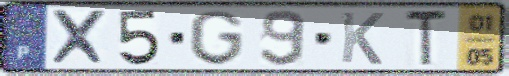5: (117, 8, 162, 67)
9: (259, 8, 308, 68)
G: (187, 9, 246, 67)
K: (338, 10, 386, 67)
T: (403, 8, 451, 70)
X: (48, 8, 111, 67)
